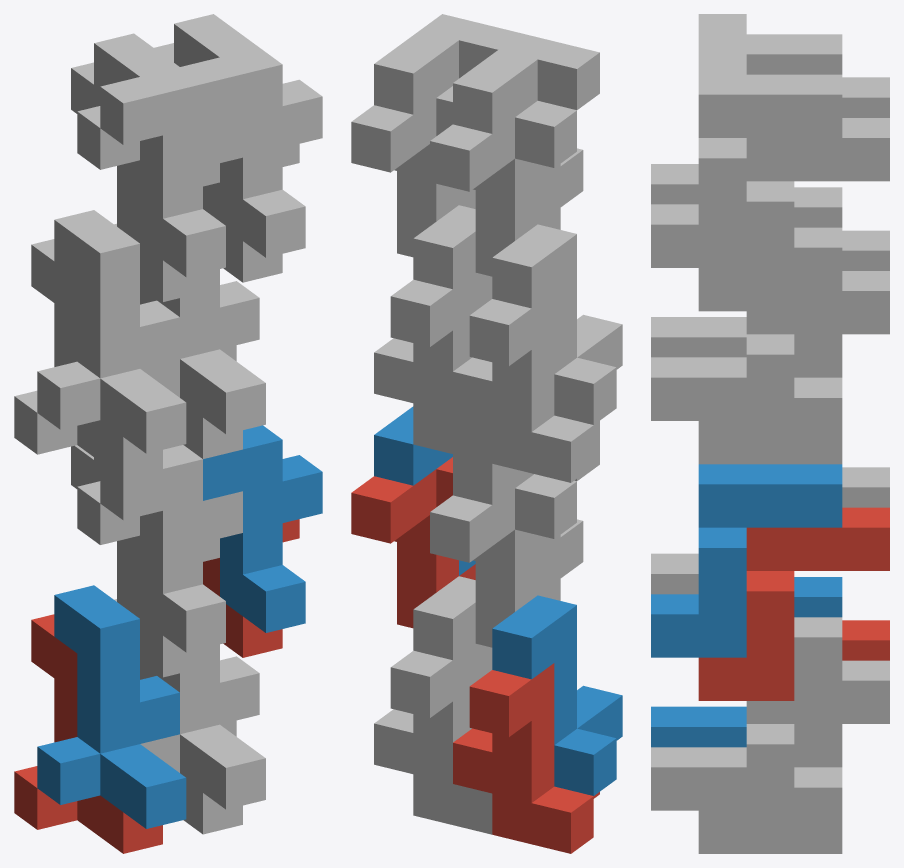
Rendered from tiling.obj.
3 views of the same model, side by side, from view 1: azimuth 30°, elevation 25°; view 2: azimuth 150°, elevation 25°; view 3: azimuth 270°, elevation 25° (orthographic). The views are drawn at different scales.
Parts seen in each view (by area): view 1: copy_1_domain_4, copy_1_domain_2, copy_2_domain_4, copy_2_domain_8, copy_2_domain_2, copy_2_domain_6, copy_1_domain_8, copy_1_domain_6, copy_1_domain_3, copy_1_domain_1, copy_2_domain_3, copy_2_domain_1 (+4 smaller); view 2: copy_1_domain_1, copy_1_domain_3, copy_1_domain_5, copy_1_domain_7, copy_2_domain_3, copy_2_domain_1, copy_1_domain_2, copy_1_domain_4, copy_2_domain_4, copy_2_domain_5, copy_2_domain_7, copy_2_domain_8 (+4 smaller); view 3: copy_2_domain_8, copy_2_domain_6, copy_1_domain_5, copy_1_domain_7, copy_2_domain_5, copy_2_domain_7, copy_1_domain_6, copy_1_domain_8, copy_2_domain_4, copy_1_domain_2, copy_1_domain_4, copy_2_domain_2 (+4 smaller).
Part boxes in pixels (<box>): copy_1_domain_4: <box>37,210,186,453</box>; copy_1_domain_2: <box>37,585,186,828</box>; copy_2_domain_4: <box>94,33,242,277</box>; copy_2_domain_8: <box>174,14,322,257</box>; copy_2_domain_2: <box>94,445,242,652</box>; copy_2_domain_6: <box>203,425,322,632</box>; copy_1_domain_8: <box>140,269,265,434</box>; copy_1_domain_6: <box>140,644,265,809</box>; copy_1_domain_3: <box>14,239,162,478</box>; copy_1_domain_1: <box>14,614,162,853</box>; copy_2_domain_3: <box>71,62,219,301</box>; copy_2_domain_1: <box>71,445,219,677</box>; copy_1_domain_1: <box>453,663,599,853</box>; copy_1_domain_3: <box>453,292,599,482</box>; copy_1_domain_5: <box>374,644,492,834</box>; copy_1_domain_7: <box>374,273,492,463</box>; copy_2_domain_3: <box>430,101,576,276</box>; copy_2_domain_1: <box>430,474,576,647</box>; copy_1_domain_2: <box>492,595,622,795</box>; copy_1_domain_4: <box>492,224,622,424</box>; copy_2_domain_4: <box>453,33,599,223</box>; copy_2_domain_5: <box>351,457,475,628</box>; copy_2_domain_7: <box>351,86,475,257</box>; copy_2_domain_8: <box>374,14,520,204</box>; copy_2_domain_8: <box>651,54,842,267</box>; copy_2_domain_6: <box>651,464,842,657</box>; copy_1_domain_5: <box>698,660,889,853</box>; copy_1_domain_7: <box>698,271,889,464</box>; copy_2_domain_5: <box>698,507,889,700</box>; copy_2_domain_7: <box>698,118,889,311</box>; copy_1_domain_6: <box>651,617,842,810</box>; copy_1_domain_8: <box>651,227,842,420</box>; copy_2_domain_4: <box>651,14,842,204</box>; copy_1_domain_2: <box>651,577,842,747</box>; copy_1_domain_4: <box>651,187,842,357</box>; copy_2_domain_2: <box>651,553,698,594</box>.
Bounding box in the file's own units: 6 × 18 × 5.
